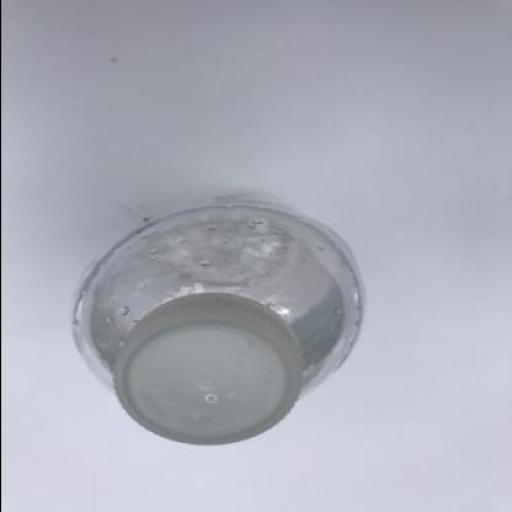plastic: (70, 194, 361, 447), (112, 294, 302, 444)
